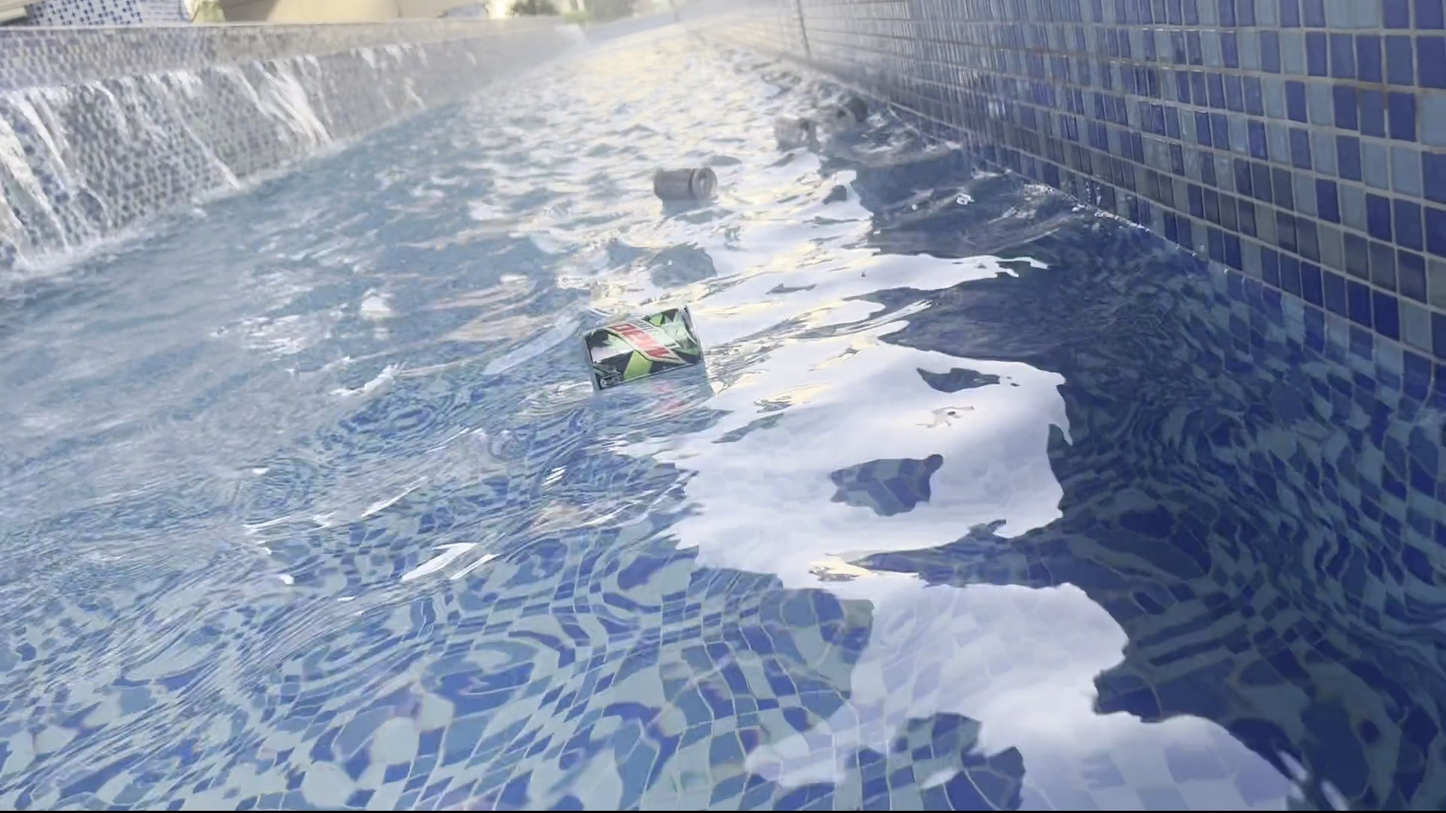debris: (571, 296, 710, 390), (650, 158, 724, 209), (766, 106, 817, 150), (819, 92, 873, 133)
